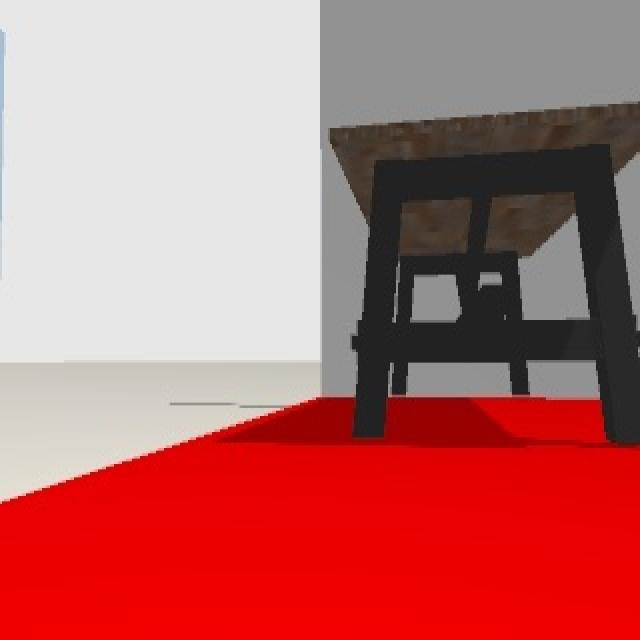dining: (328, 107, 640, 445)
